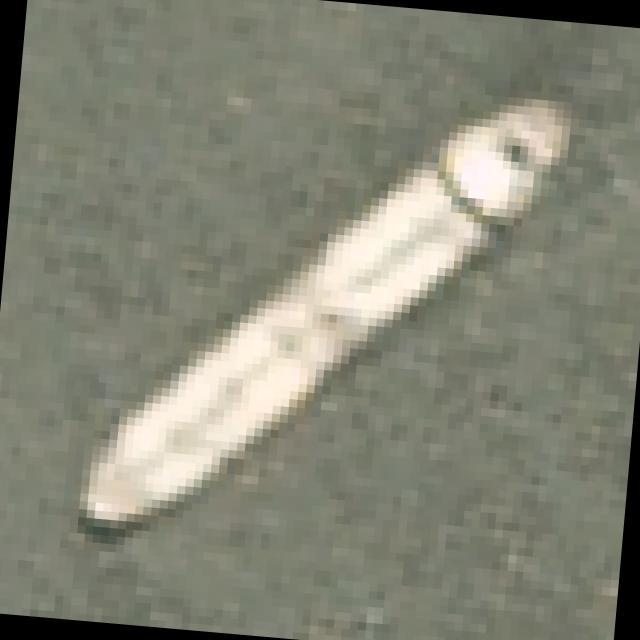ship: (33, 28, 622, 594)
